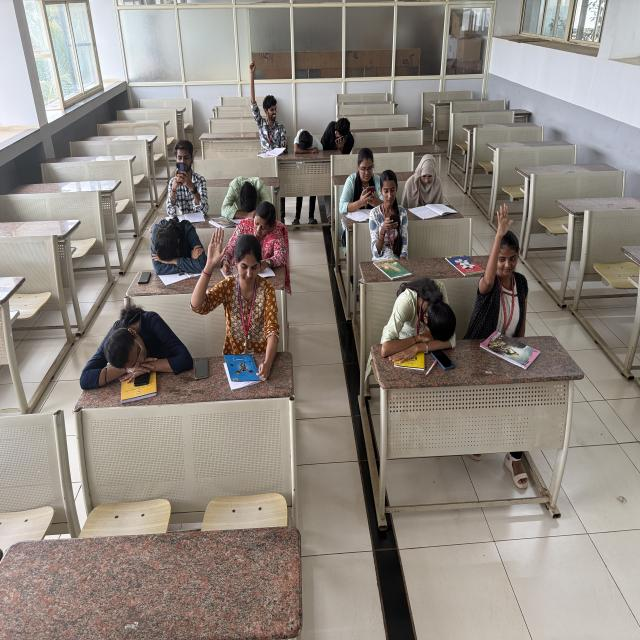Hand Rising: (188, 223, 286, 388), (462, 202, 547, 354), (232, 56, 292, 157)
Reading: (402, 143, 464, 234)
Sleeping: (74, 279, 192, 403), (376, 266, 462, 375), (134, 200, 212, 281), (218, 156, 279, 216), (291, 113, 325, 219)
Using Phone: (148, 137, 217, 222), (370, 168, 412, 265), (325, 95, 361, 169)
